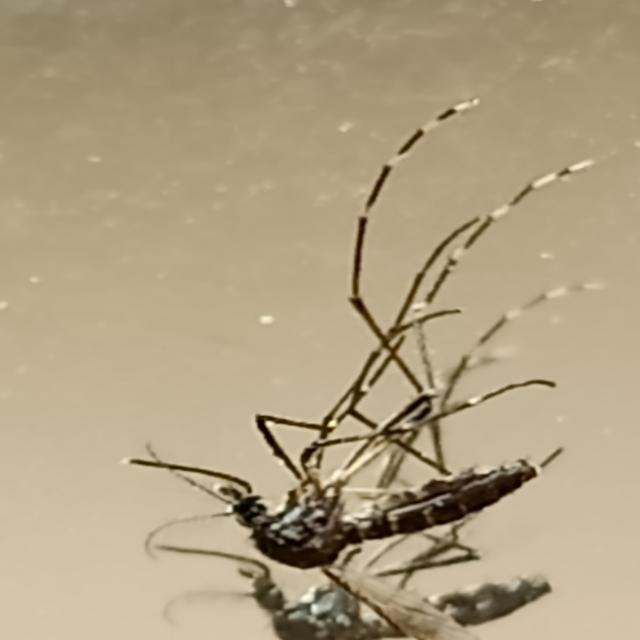albopictus: (128, 75, 612, 640)
